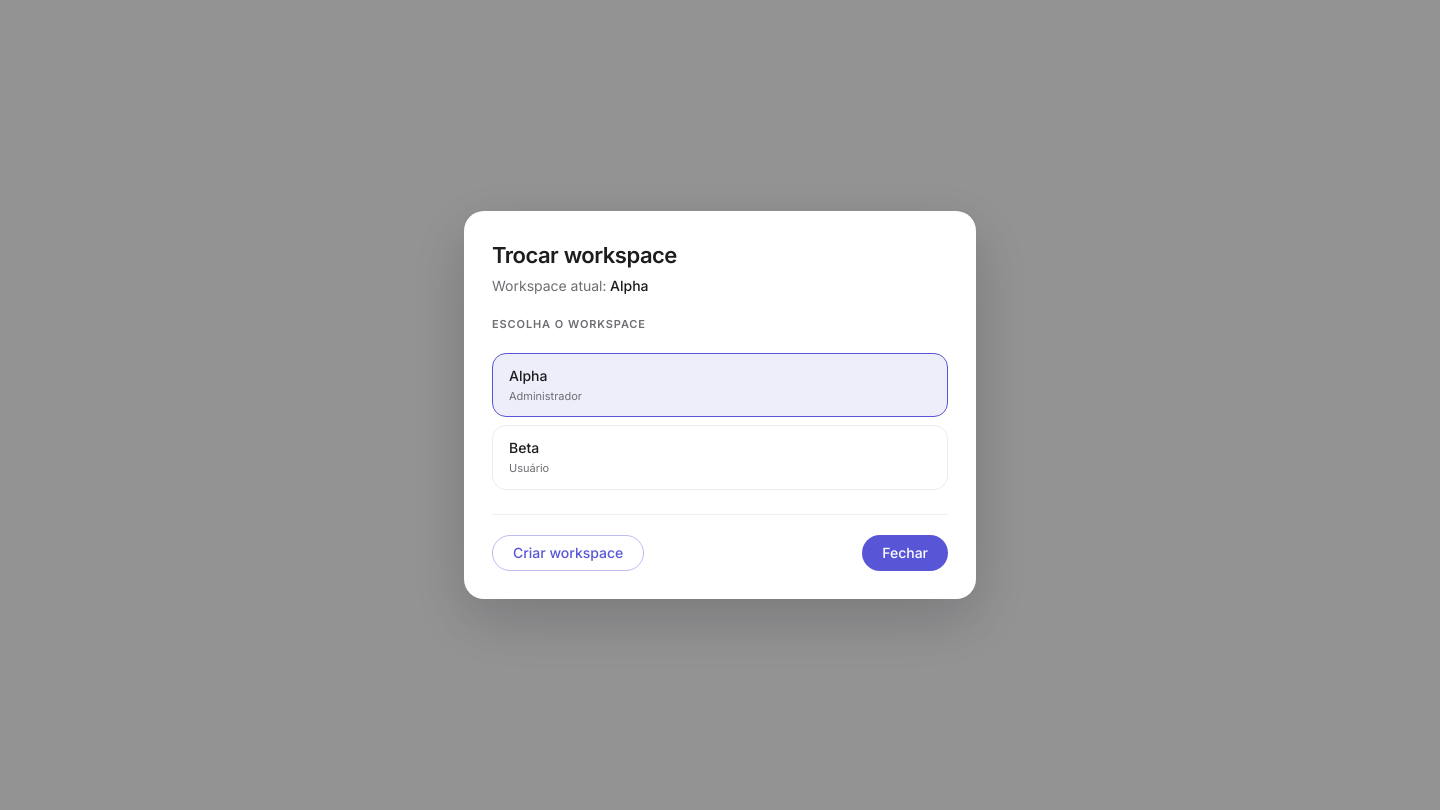
Test: SwitchWorkspaceModal › opens create workspace flow from modal footer
Expected: the text "Beta" is shown, [509,439,539,456]
Click the button "Criar workspace".
click(568, 553)  # box [492,535,644,571]
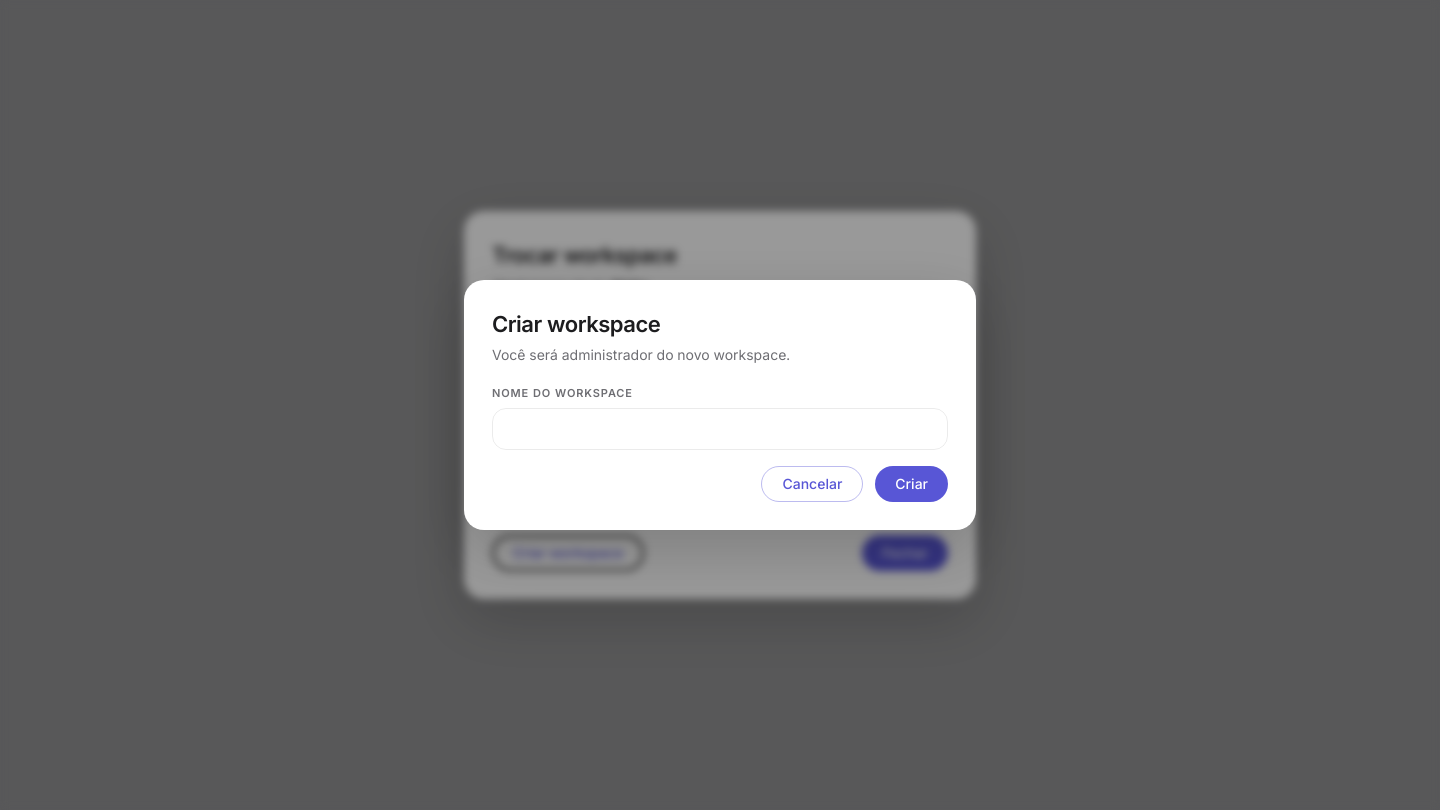
Result: the heading "Criar workspace" is shown at [492,311,660,337]
